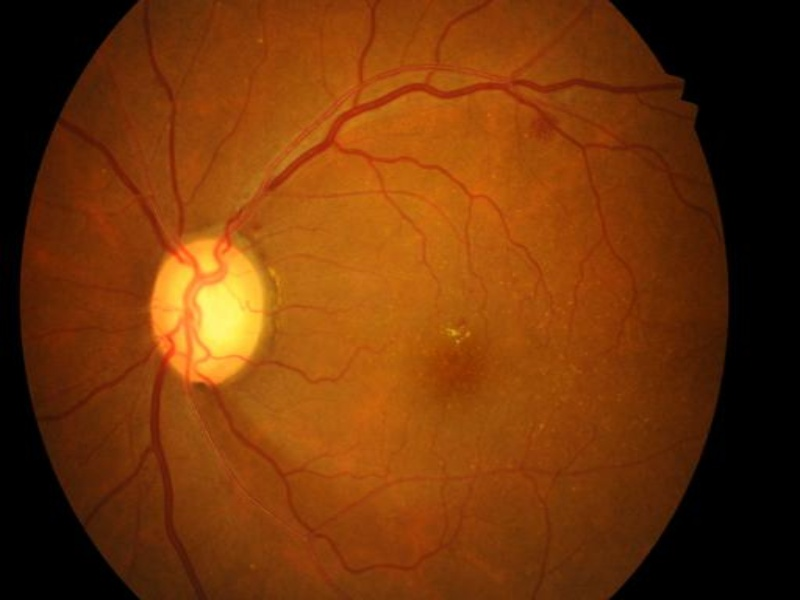Hard_exudates: (446, 326, 477, 346), (266, 265, 285, 287), (274, 290, 287, 313), (247, 561, 258, 574), (255, 36, 265, 46), (101, 167, 107, 175)
Hemorrhages: (527, 112, 561, 141), (72, 440, 98, 470), (165, 48, 182, 62), (256, 251, 272, 264), (249, 222, 264, 234), (454, 316, 466, 328)
